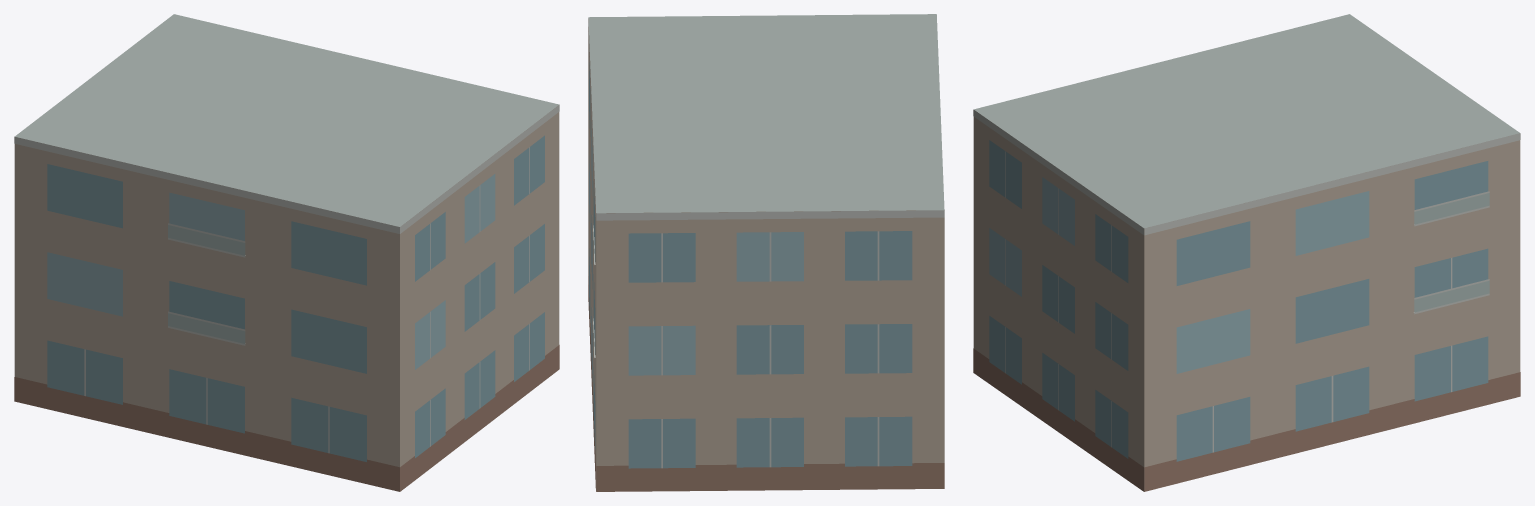
The model's file is survey-upis-32705839.glb.
3 renders of one model, left to right at view 1: azimuth 30°, elevation 25°; view 2: azimuth 150°, elevation 25°; view 3: azimuth 270°, elevation 25°, orthographic. The views are drawn at different scales.
Parts seen in each view (by area): view 1: survey-upis-32705839.tmp; view 2: survey-upis-32705839.tmp; view 3: survey-upis-32705839.tmp.
Part boxes in pixels (left/top/right/bottom): survey-upis-32705839.tmp: left=14, top=14, right=559, bottom=491; survey-upis-32705839.tmp: left=588, top=14, right=944, bottom=491; survey-upis-32705839.tmp: left=973, top=14, right=1520, bottom=491.
Bounding box in the file's own units: 15.98 × 9.15 × 17.22.
